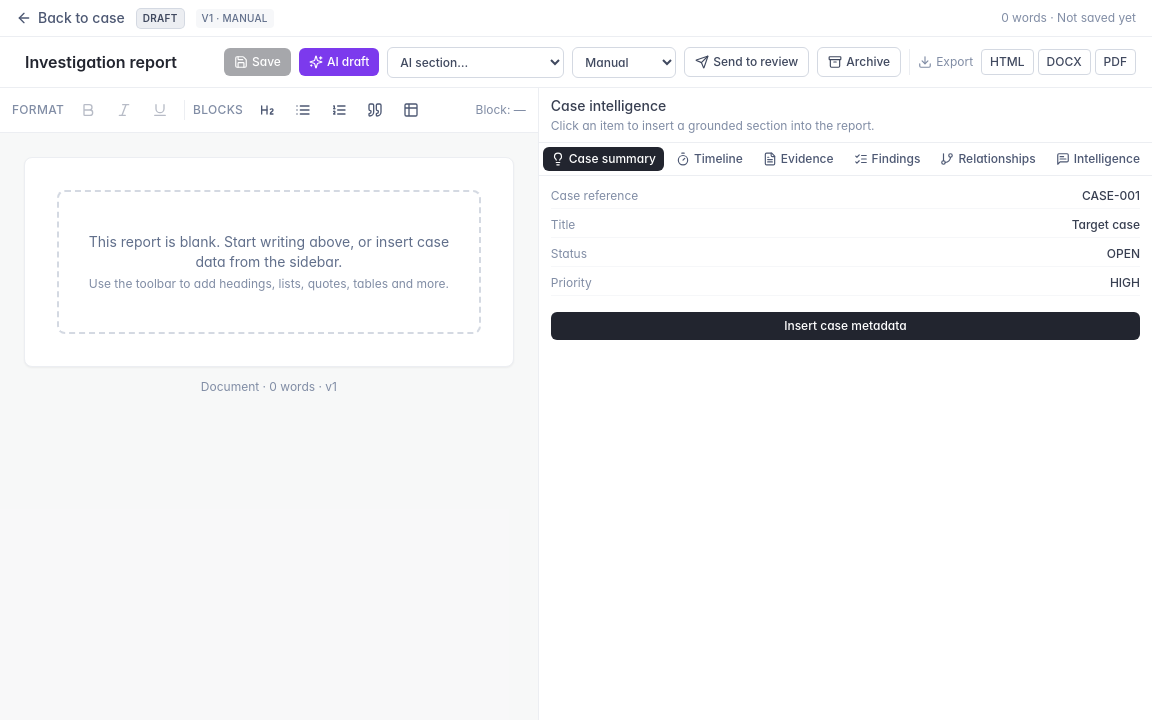
Test case: ReportsEditor › inserts an AI section with an AI provenance badge
The image size is (1152, 720).
Select "Timeline summary" in the 1st dropdown: (476, 62) [387,46,564,78]
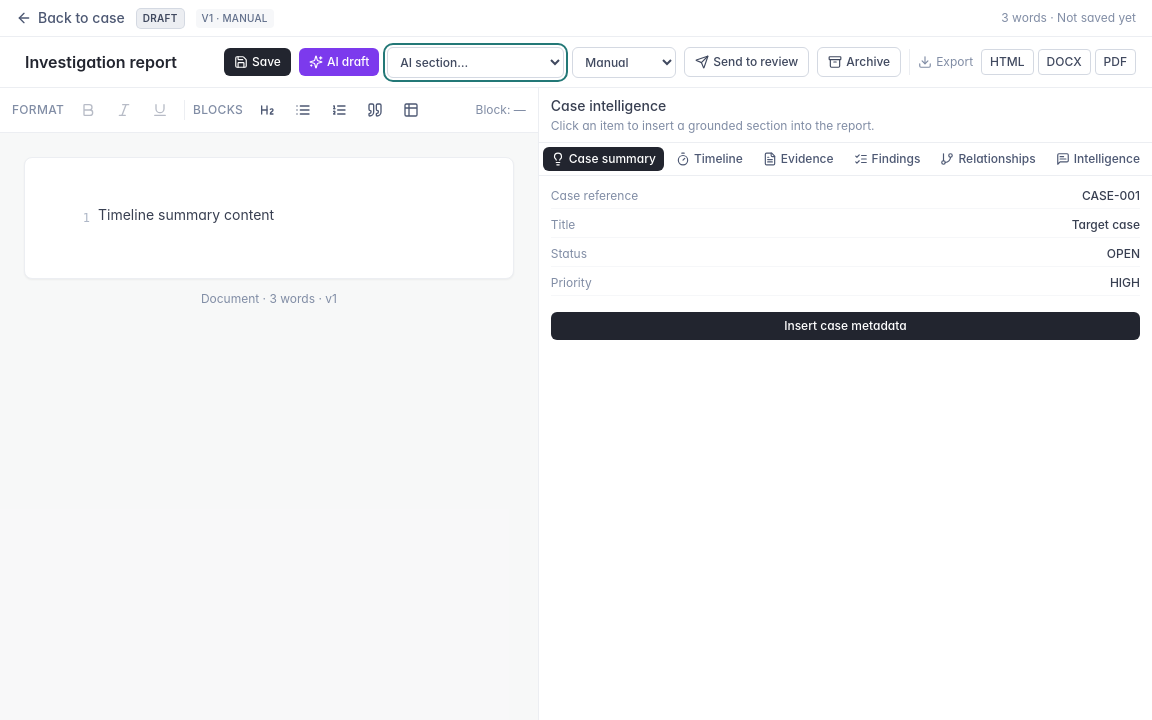
Expected: the text box showing "Timeline summary content" is shown, [98,199,472,231]
